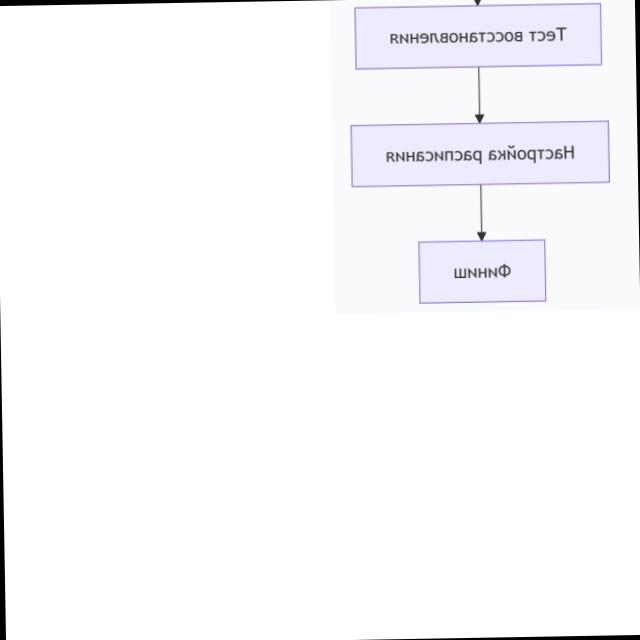arrow: (472, 67, 484, 123), (475, 184, 486, 240)
rectangle: (349, 118, 610, 188), (353, 1, 603, 71), (418, 237, 546, 304)
